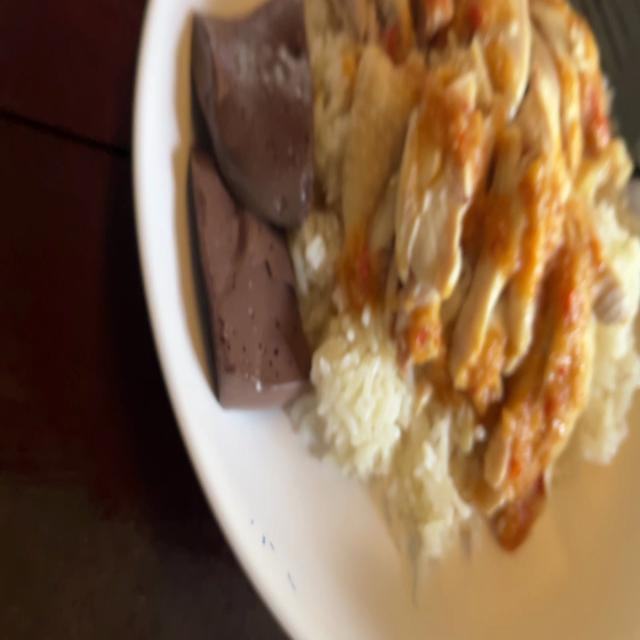chicken_rice: (348, 0, 594, 517)
noodle: (191, 143, 297, 414), (192, 0, 310, 218)
